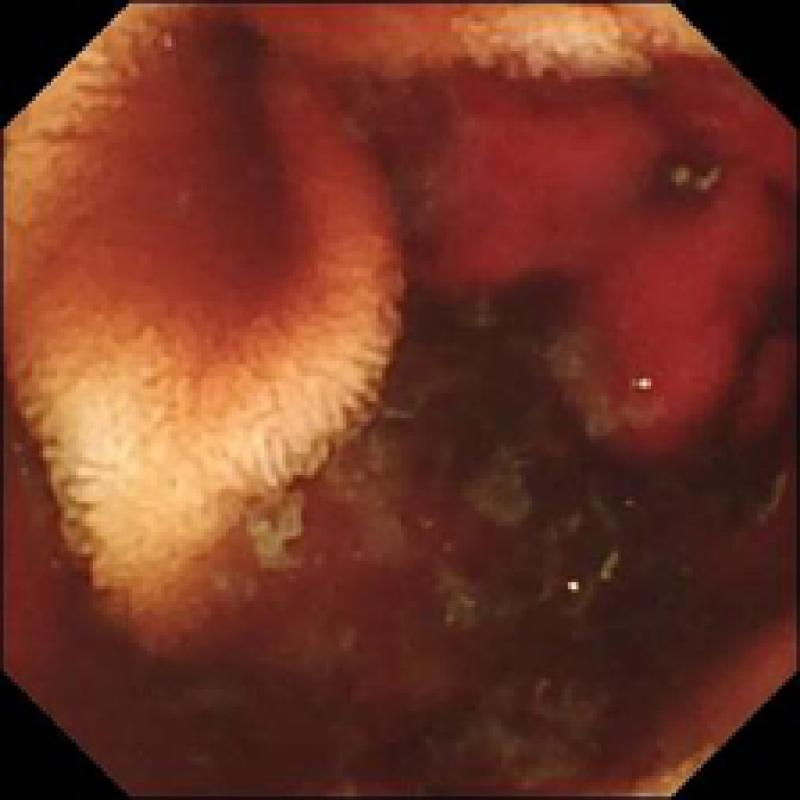bleeding: (375, 39, 800, 454)
